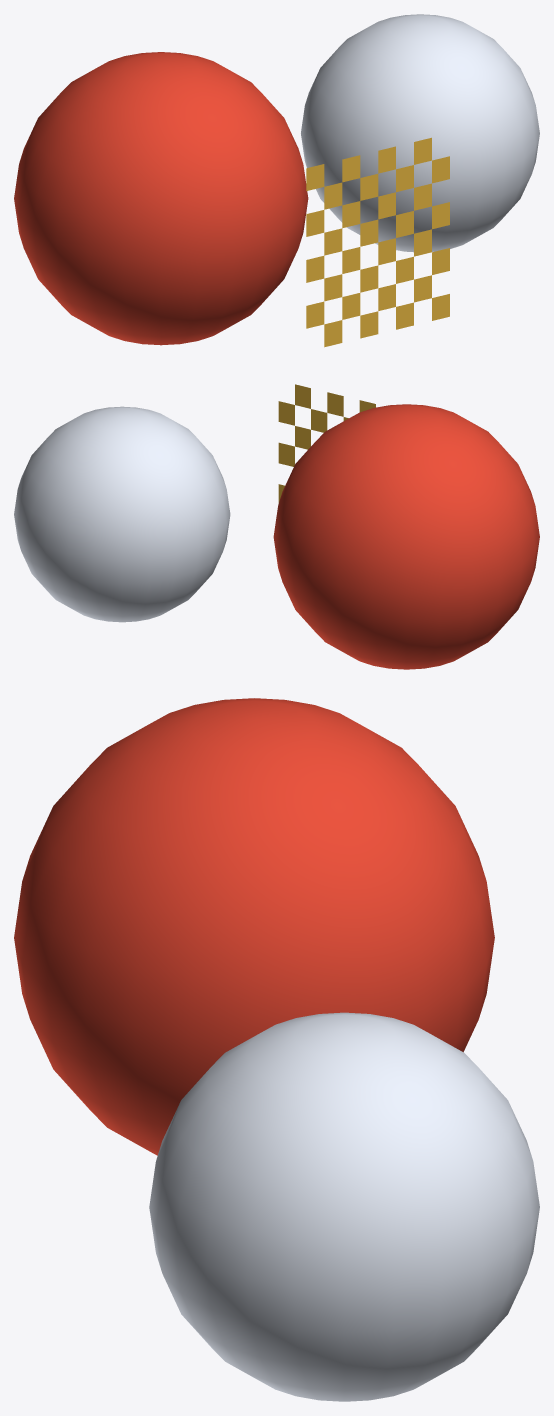
3 renders of one model, top to bottom at view 1: azimuth 30°, elevation 25°; view 2: azimuth 150°, elevation 25°; view 3: azimuth 270°, elevation 25°, orthographic. The views are drawn at different scales.
Size of what is drawn, in the model's own units: 3.25 by 1.6 by 1.75.
3 materials, 1 textured.
